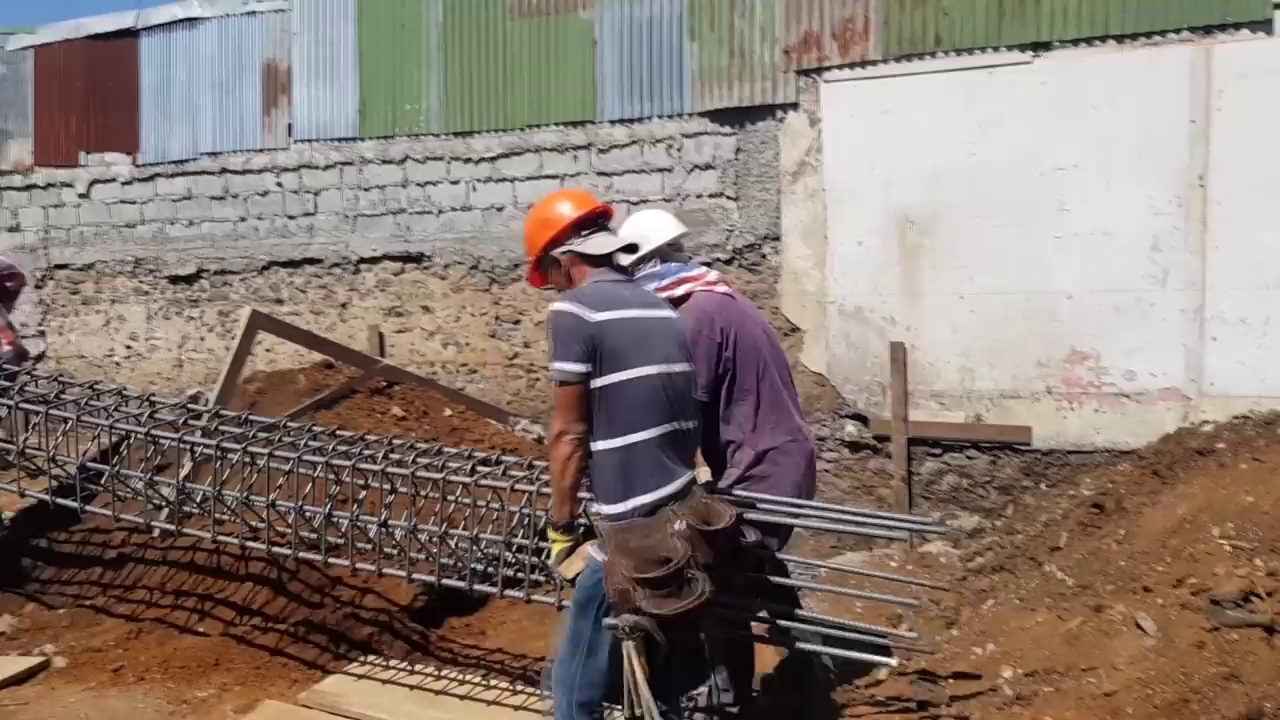helmet: (524, 189, 611, 288), (612, 210, 680, 272)
helmet-on: (519, 184, 636, 298), (610, 200, 718, 304)
person: (523, 185, 756, 720), (609, 178, 842, 695)
